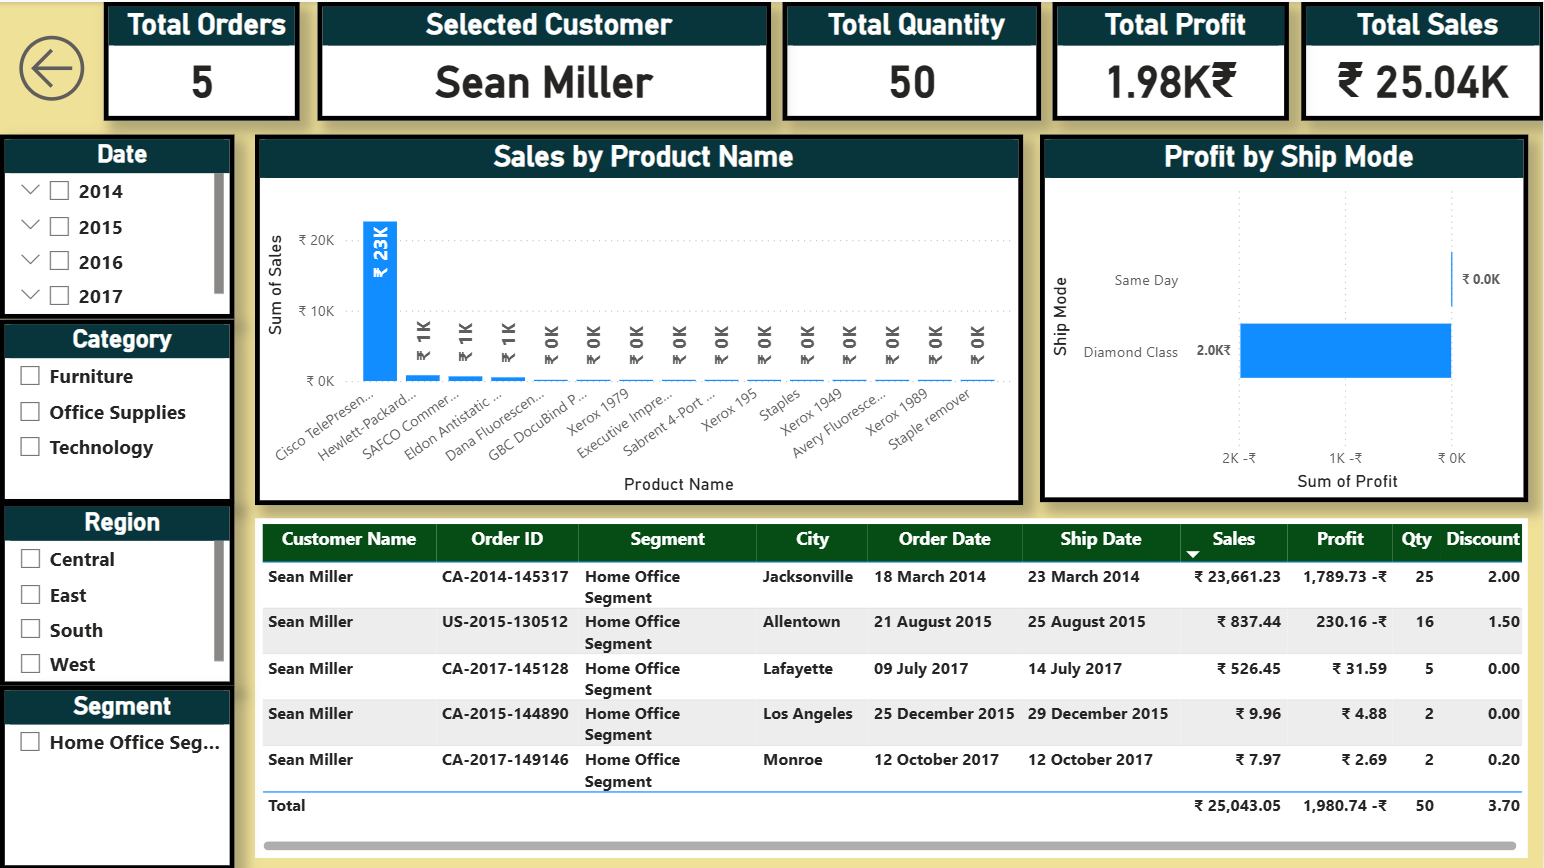

The page's visual inventory and layout, read from the dashboard file:
{"tool":"powerbi","page":{"name":"Detailed Customer Analysis","canvas":[1280,720],"ordinal":6},"visuals":[{"type":"card","title":"Total Sales","fields":{"Values":["Orders.Sales"]},"box":[1078.3,0,201.7,98.8],"z":0},{"type":"card","title":"Total Quantity","fields":{"Values":["Orders.Quantity"]},"box":[648.3,0,214.3,98.8],"z":1000},{"type":"card","title":"Total Orders","fields":{"Values":["Orders.Order ID"]},"box":[86.3,0,162.8,98.8],"z":2000},{"type":"card","title":"Total Profit","fields":{"Values":["Orders.Profit"]},"box":[872.3,0,196.2,98.8],"z":3000},{"type":"card","title":"Selected Customer","fields":{"Values":["Orders.Customer Name"]},"box":[263,0,375.7,98.8],"z":4000},{"type":"columnChart","title":"Sales by Product Name","fields":{"Category":["Orders.Product Name"],"Y":["Orders.Sales"]},"box":[211.3,109.8,636.7,307.4],"z":5000},{"type":"clusteredBarChart","title":"Profit by Ship Mode","fields":{"Category":["Orders.Ship Mode"],"Y":["Orders.Profit"]},"box":[861.8,109.8,404.8,304.6],"z":6000},{"type":"tableEx","fields":{"Values":["Orders.Customer Name","Orders.Order ID","Orders.Segment","Orders.City","Orders.Order Date","Orders.Ship Date","Orders.Sales","Orders.Profit","Orders.Quantity","Orders.Discount"]},"box":[211.3,428.1,1055.2,281.3],"z":7000},{"type":"actionButton","box":[0,0,86.3,109.9],"z":8000},{"type":"slicer","title":"Date","fields":{"Values":["Orders.Order Date.Variation.Date Hierarchy.Year","Orders.Order Date.Variation.Date Hierarchy.Quarter","Orders.Order Date.Variation.Date Hierarchy.Month","Orders.Order Date.Variation.Date Hierarchy.Day"]},"box":[0,109.9,194.8,153],"z":9000},{"type":"slicer","title":"Category","fields":{"Values":["Orders.Category"]},"box":[0,263,194.8,153],"z":10000},{"type":"slicer","title":"Region","fields":{"Values":["Orders.Region"]},"box":[0,414.6,194.8,153],"z":11000},{"type":"slicer","title":"Segment","fields":{"Values":["Orders.Segment"]},"box":[0,567,194.8,153],"z":12000}]}

Visuals, with their boxes in screenshot pixels (x1, y1, x2, y2), scaled from the page's 1280x720 canvas onto the 1544x868 screenshot:
"Total Sales" card: [1301, 0, 1543, 119]
"Total Quantity" card: [782, 0, 1041, 119]
"Total Orders" card: [104, 0, 300, 119]
"Total Profit" card: [1052, 0, 1289, 119]
"Selected Customer" card: [317, 0, 770, 119]
"Sales by Product Name" columnChart: [255, 132, 1023, 503]
"Profit by Ship Mode" clusteredBarChart: [1040, 132, 1528, 500]
tableEx - Orders.Customer Name x Orders.Order ID: [255, 516, 1528, 855]
actionButton: [0, 0, 104, 132]
"Date" slicer: [0, 132, 235, 317]
"Category" slicer: [0, 317, 235, 502]
"Region" slicer: [0, 500, 235, 684]
"Segment" slicer: [0, 684, 235, 867]
